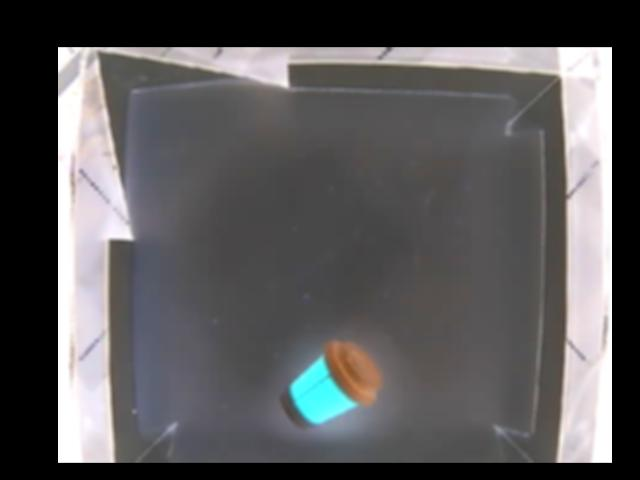Cup: (282, 338, 381, 428)
